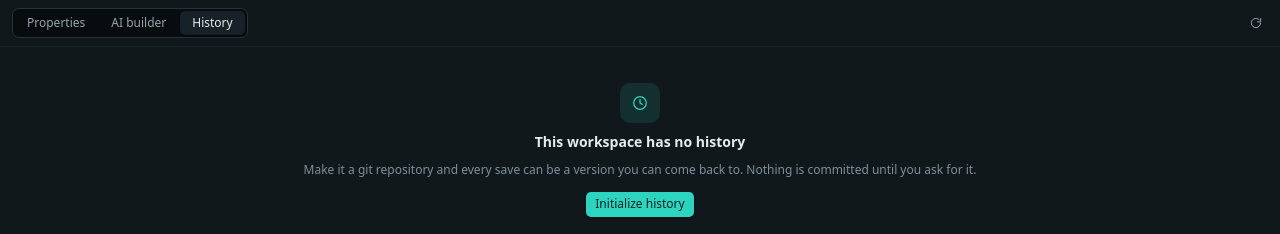
Scenario: the History tab › offers to make a repository, and makes one
The image size is (1280, 234).
Expected: the text "This workspace has no history" is shown, [535,131,745,152]
Step 1. Click the button "Initialize history" → (640, 204), box [586,192,694,217]
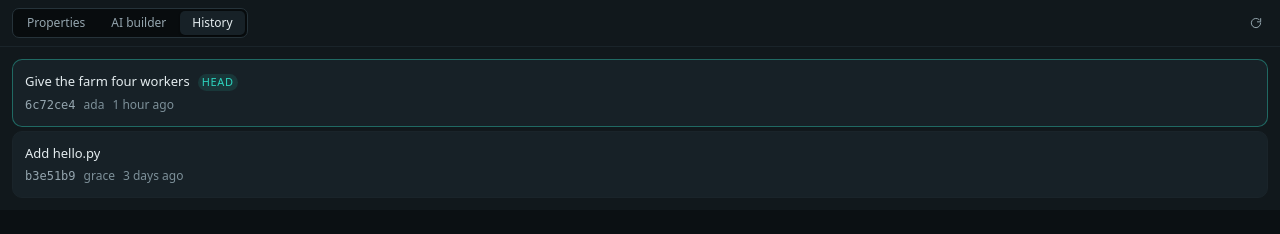
Expected: the text "Give the farm four workers" is shown, [25,72,190,92]
